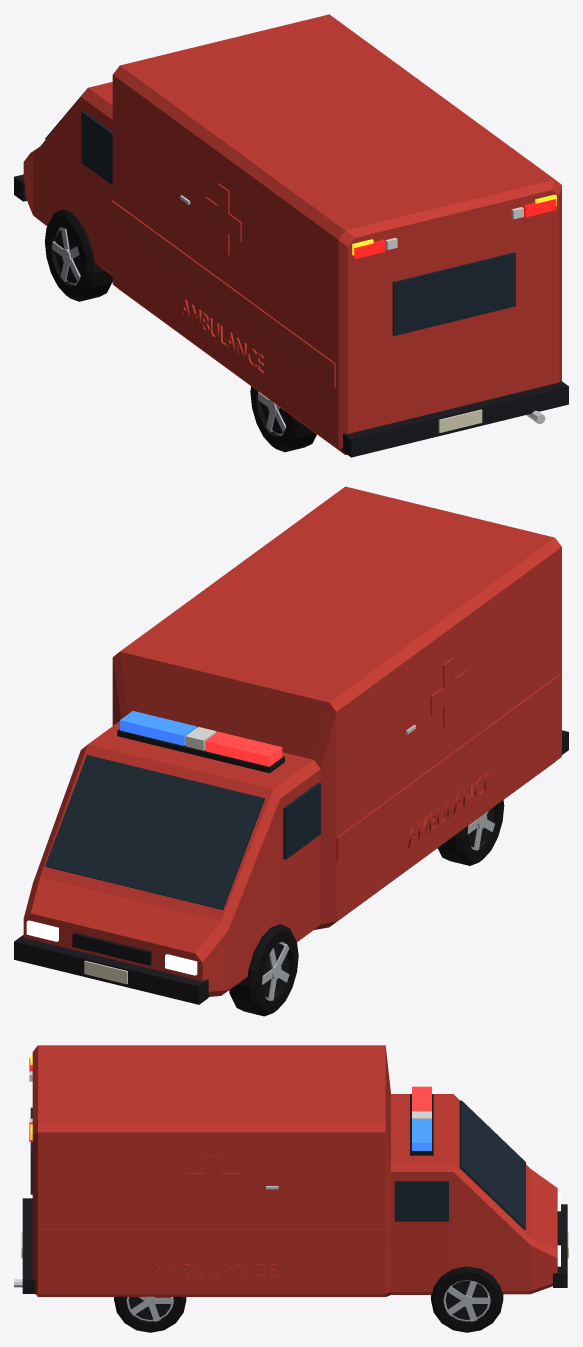
File: ambulance.glb
3 views of the same model, one above another, from view 1: azimuth 30°, elevation 25°; view 2: azimuth 150°, elevation 25°; view 3: azimuth 270°, elevation 25° (orthographic). The views are drawn at different scales.
Visible parts, largest first — view 1: ambulance_Body, ambulance_Top, ambulance_Wheel_FL, ambulance_Wheel_RL, ambulance_TxtL; view 2: ambulance_Body, ambulance_Top, ambulance_Lightbar, ambulance_Wheel_FL, ambulance_Wheel_RL, ambulance_TxtL; view 3: ambulance_Body, ambulance_Top, ambulance_Wheel_FR, ambulance_Wheel_RR, ambulance_Lightbar, ambulance_TxtR.
Part boxes in pixels (x1,y1,x2,y2): ambulance_Body: (23,14,561,454); ambulance_Top: (14,89,568,457); ambulance_Wheel_FL: (45,209,112,301); ambulance_Wheel_RL: (250,386,316,452); ambulance_TxtL: (180,299,264,374); ambulance_Body: (23,486,561,996); ambulance_Top: (14,657,568,1004); ambulance_Lightbar: (117,711,284,773); ambulance_Wheel_FL: (229,924,298,1016); ambulance_Wheel_RL: (437,800,504,865); ambulance_TxtL: (408,771,491,848); ambulance_Body: (32,1045,557,1296); ambulance_Top: (14,1055,568,1293); ambulance_Wheel_FR: (431,1266,503,1332); ambulance_Wheel_RR: (114,1296,186,1332); ambulance_Lightbar: (410,1086,433,1155); ambulance_TxtR: (150,1263,276,1277).
Size of the model in its own units: 2.25 by 2.56 by 6.13.
